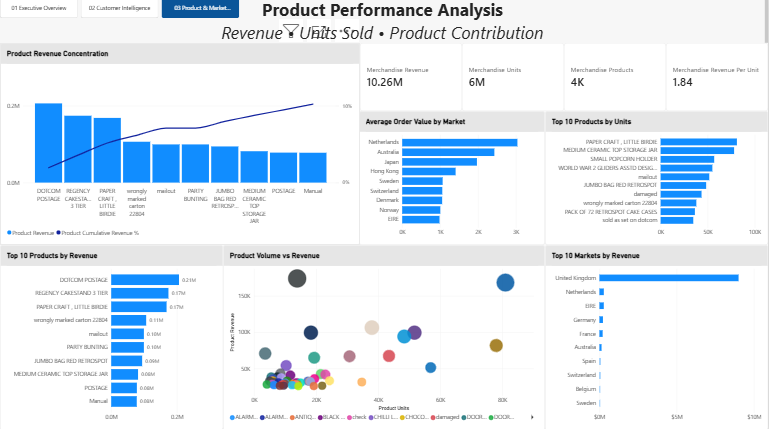

Layout of this report page (visuals, bound fields, positions):
{"tool":"powerbi","page":{"name":"03 Product & Market Performance","canvas":[1920,1080],"ordinal":2},"visuals":[{"type":"cardVisual","fields":{"Data":["Table = Measures.Merchandise Revenue"]},"box":[900,112.5,255,170],"z":0},{"type":"cardVisual","fields":{"Data":["Table = Measures.Merchandise Units"]},"box":[1155,112.5,255,170],"z":1000},{"type":"cardVisual","fields":{"Data":["Table = Measures.Merchandise Products"]},"box":[1410,112.5,255,170],"z":2000},{"type":"cardVisual","fields":{"Data":["Table = Measures.Merchandise Revenue Per Unit"]},"box":[1665,112.5,255,170],"z":3000},{"type":"clusteredBarChart","title":"Top 10 Products by Revenue","fields":{"Category":["customer_sales_analytics dim_product.Description"],"Y":["Table = Measures.Product Revenue"]},"box":[0,617.5,557.5,462.5],"z":4000},{"type":"barChart","title":"Top 10 Products by Units","fields":{"Y":["Table = Measures.Product Units"],"Category":["customer_sales_analytics dim_product.Description"]},"box":[1362.5,282.5,557.5,335],"z":5000},{"type":"scatterChart","title":"Product Volume vs Revenue","fields":{"X":["Table = Measures.Product Units"],"Y":["Table = Measures.Product Revenue"],"Series":["customer_sales_analytics dim_product.Description"],"Size":["Table = Measures.Product Revenue"]},"box":[557.5,617.5,805,462.5],"z":6000},{"type":"barChart","title":"Top 10 Markets by Revenue","fields":{"Category":["customer_sales_analytics dim_country.Country"],"Y":["Table = Measures.Total Revenue"]},"box":[1362.5,617.5,557.5,462.5],"z":7000},{"type":"barChart","title":"Average Order Value by Market","fields":{"Category":["customer_sales_analytics dim_country.Country"],"Y":["Table = Measures.Country AOV"]},"box":[897.5,282.5,465,335],"z":8000},{"type":"lineClusteredColumnComboChart","title":"Product Revenue Concentration","fields":{"Category":["customer_sales_analytics dim_product.Description"],"Y":["Table = Measures.Product Revenue"],"Y2":["Table = Measures.Product Cumulative Revenue %"]},"box":[0,112.5,900,505],"z":9000},{"type":"textbox","box":[0,0,1920,112.5],"z":10000},{"type":"actionButton","box":[0,0,100,40],"z":11000},{"type":"pageNavigator","box":[0,0,600,50],"z":11001}]}

Visuals, with their boxes on the page's 1920x1080 design canvas (x1, y1, x2, y2). These are canvas units, not pixel positions in the 769x429 screenshot, which may show the page scaled, cropped or inside an application window:
cardVisual - Table = Measures.Merchandise Revenue: 900/112/1155/282
cardVisual - Table = Measures.Merchandise Units: 1155/112/1410/282
cardVisual - Table = Measures.Merchandise Products: 1410/112/1665/282
cardVisual - Table = Measures.Merchandise Revenue Per Unit: 1665/112/1920/282
"Top 10 Products by Revenue" clusteredBarChart: 0/618/558/1080
"Top 10 Products by Units" barChart: 1362/282/1920/618
"Product Volume vs Revenue" scatterChart: 558/618/1362/1080
"Top 10 Markets by Revenue" barChart: 1362/618/1920/1080
"Average Order Value by Market" barChart: 898/282/1362/618
"Product Revenue Concentration" lineClusteredColumnComboChart: 0/112/900/618
textbox: 0/0/1920/112
actionButton: 0/0/100/40
pageNavigator: 0/0/600/50
